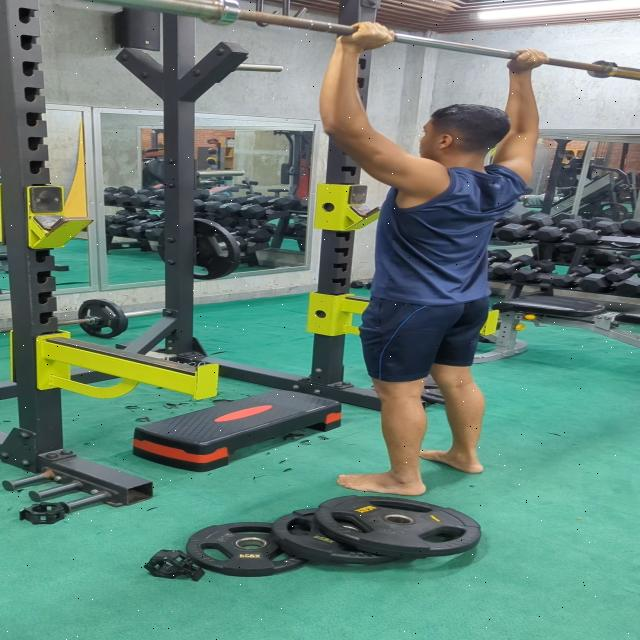Normal_OverheadPress: (258, 21, 557, 502)
